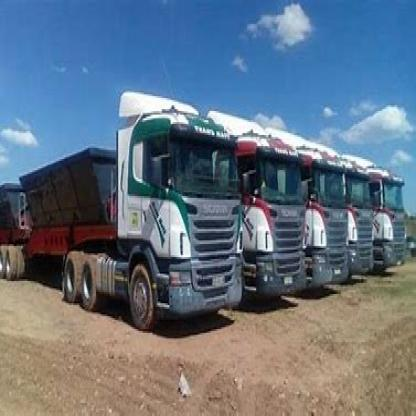dump_truck: (0, 70, 244, 331), (241, 106, 311, 314), (306, 118, 348, 300), (377, 154, 415, 290), (346, 144, 380, 287)
